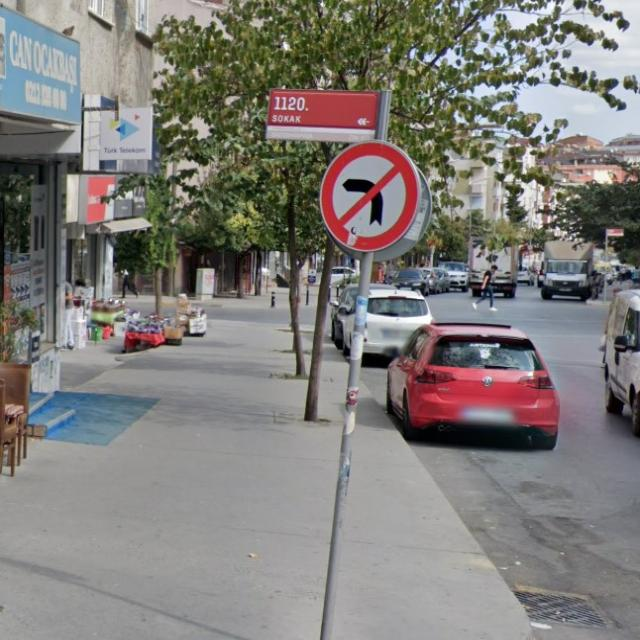soladonulmez: (320, 140, 418, 250)
